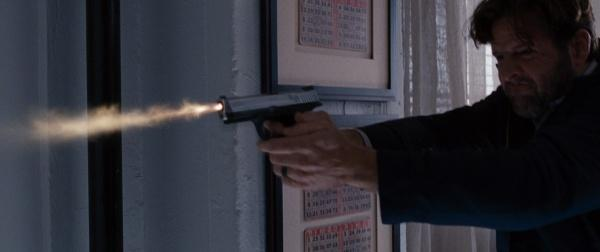Gun: (219, 85, 323, 140)
